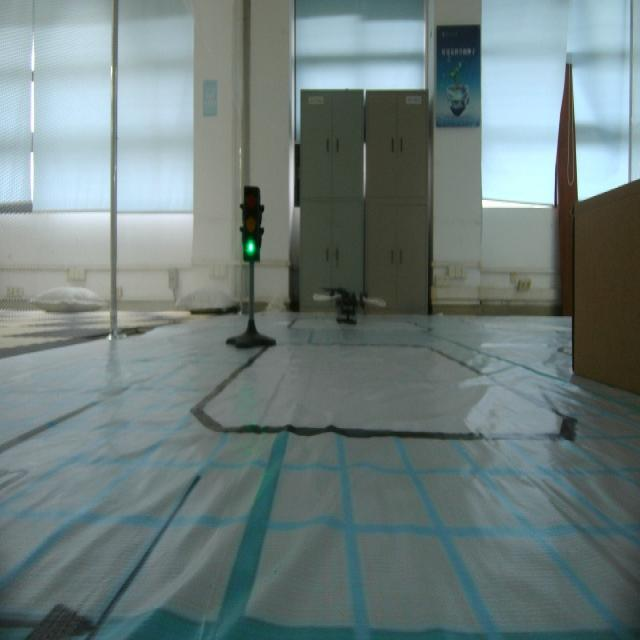green: (240, 182, 265, 264)
